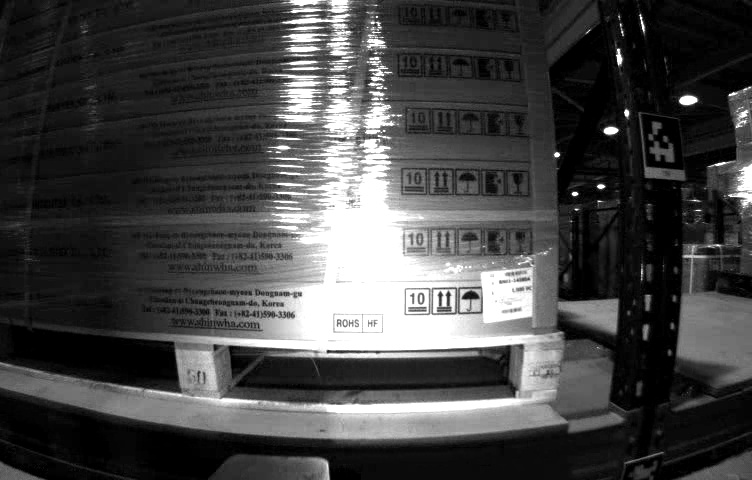True Barcode: (478, 267, 536, 316)
